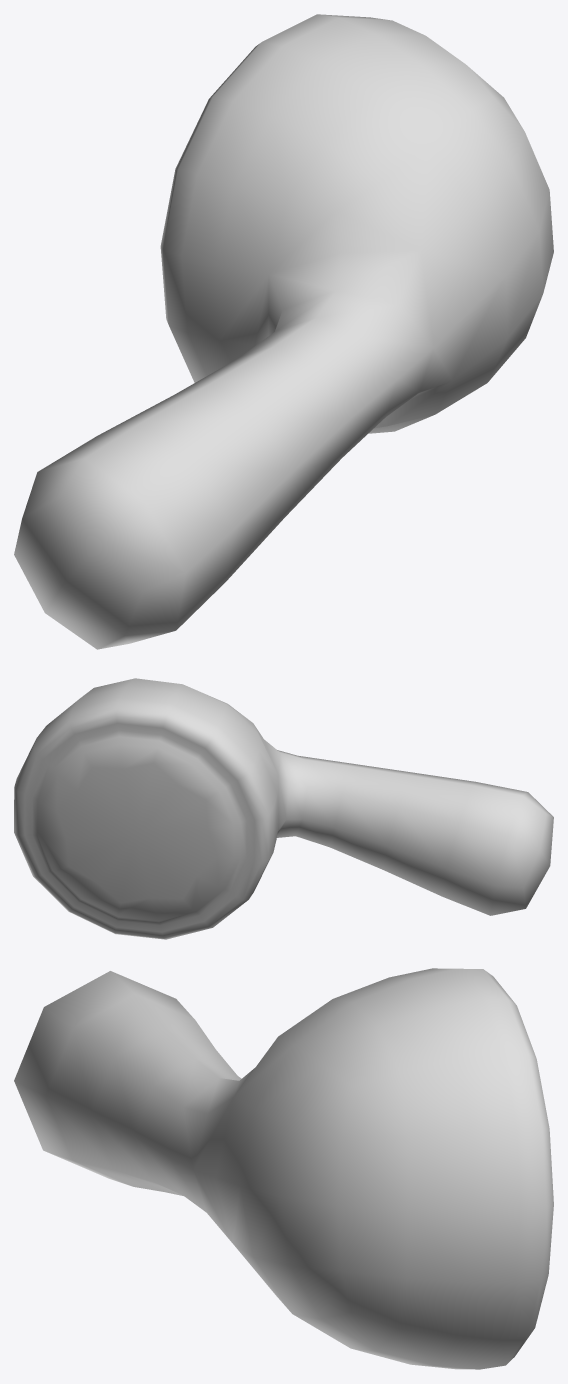
The model's file is shower.fbx.
3 views of the same model, one above another, from view 1: azimuth 30°, elevation 25°; view 2: azimuth 150°, elevation 25°; view 3: azimuth 270°, elevation 25° (orthographic). The views are drawn at different scales.
Parts seen in each view (by area): view 1: Cube.016; view 2: Cube.016; view 3: Cube.016.
Part boxes in pixels (box(x1,y1,x2,y2)): Cube.016: box(14, 14, 553, 649); Cube.016: box(14, 678, 553, 939); Cube.016: box(14, 968, 553, 1369).
Bounding box in the file's own units: 0.8207 × 0.6169 × 0.4644.
Materials: 1 (1 with a texture image).
